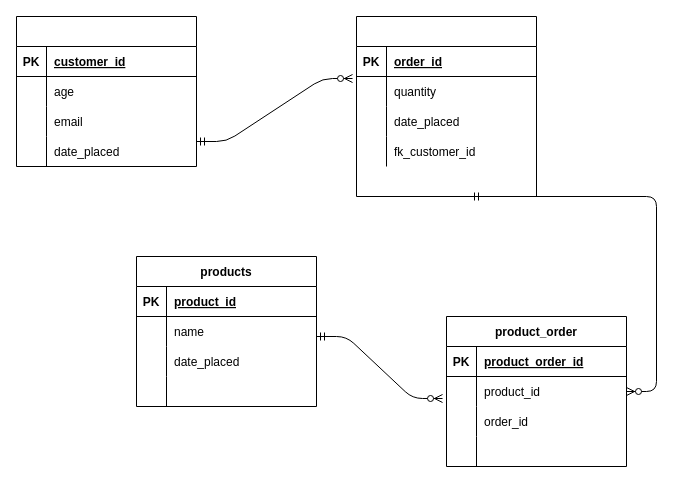
This 673x483 diagram has some shape labels left out. Here are the shapes that lost their labels. From the top down, the box of each, then its label:
(16, 16, 196, 166): customers
(356, 16, 536, 196): orders
